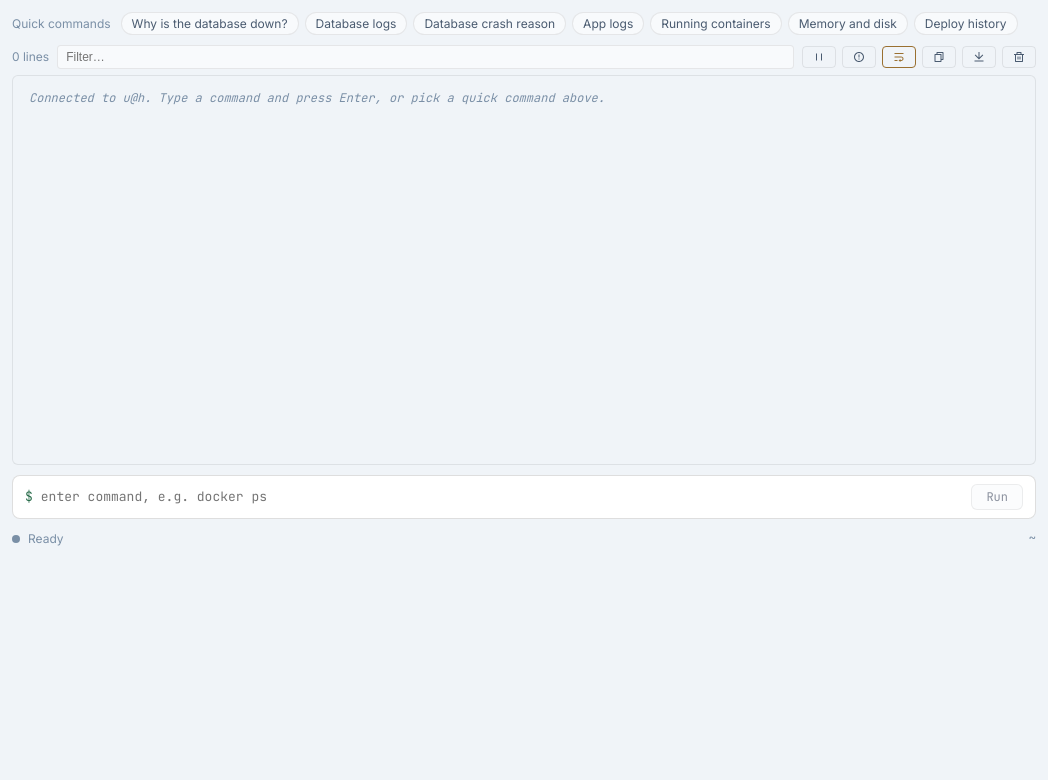
it: RemoteTerminal › offers ready-made diagnostic commands that fill the box without running them
Click the button "Database logs". click: (356, 24)
box: left=304, top=12, right=407, bottom=35
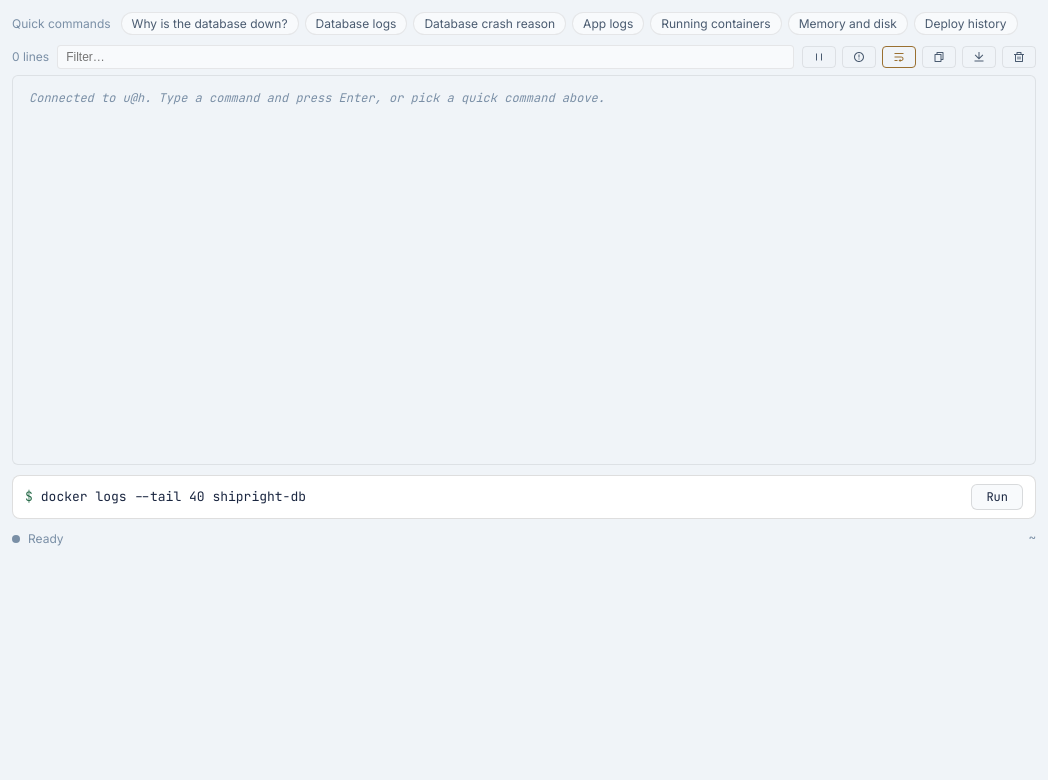
Now the field named "command" holds "docker logs --tail 40 shipright-db", box left=41, top=487, right=963, bottom=507
Click the button "Database crash reason". click: (490, 24)
box: left=413, top=12, right=566, bottom=35
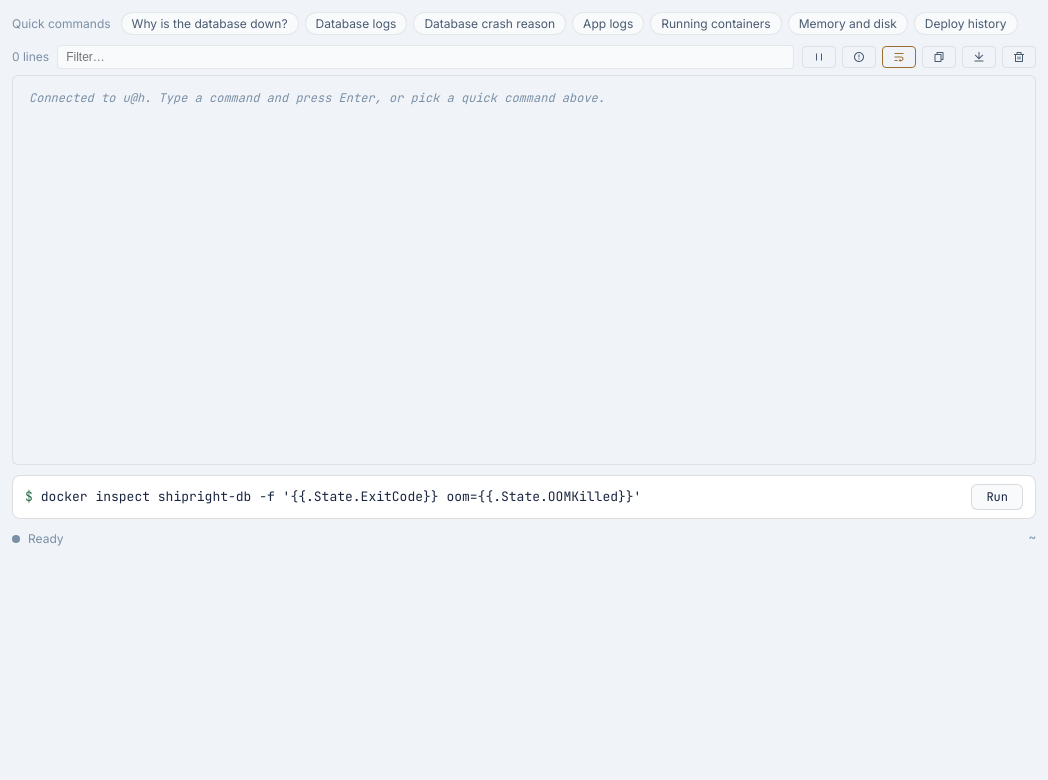
Now the field named "command" holds "docker inspect shipright-db -f '{{.State.ExitCode}} oom={{.State.OOMKilled}}'", box left=41, top=487, right=963, bottom=507
Click the button "Memory and disk". click: (848, 24)
box: left=788, top=12, right=908, bottom=35
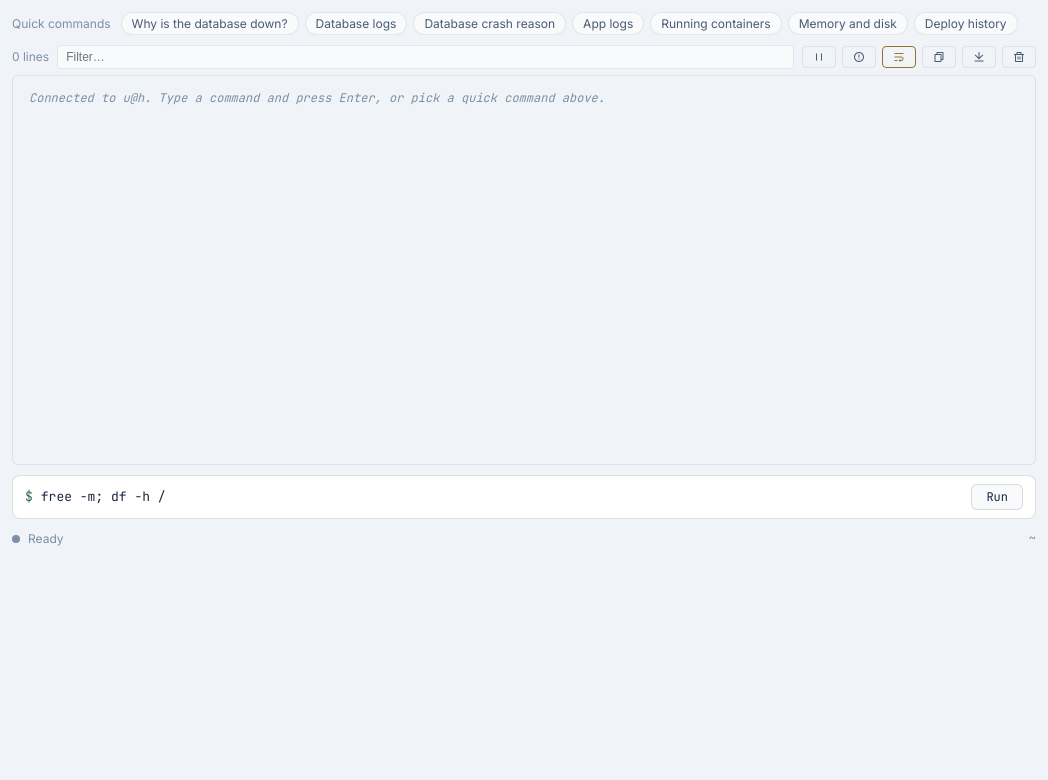
Now the field named "command" holds "free -m; df -h /", box left=41, top=487, right=963, bottom=507
